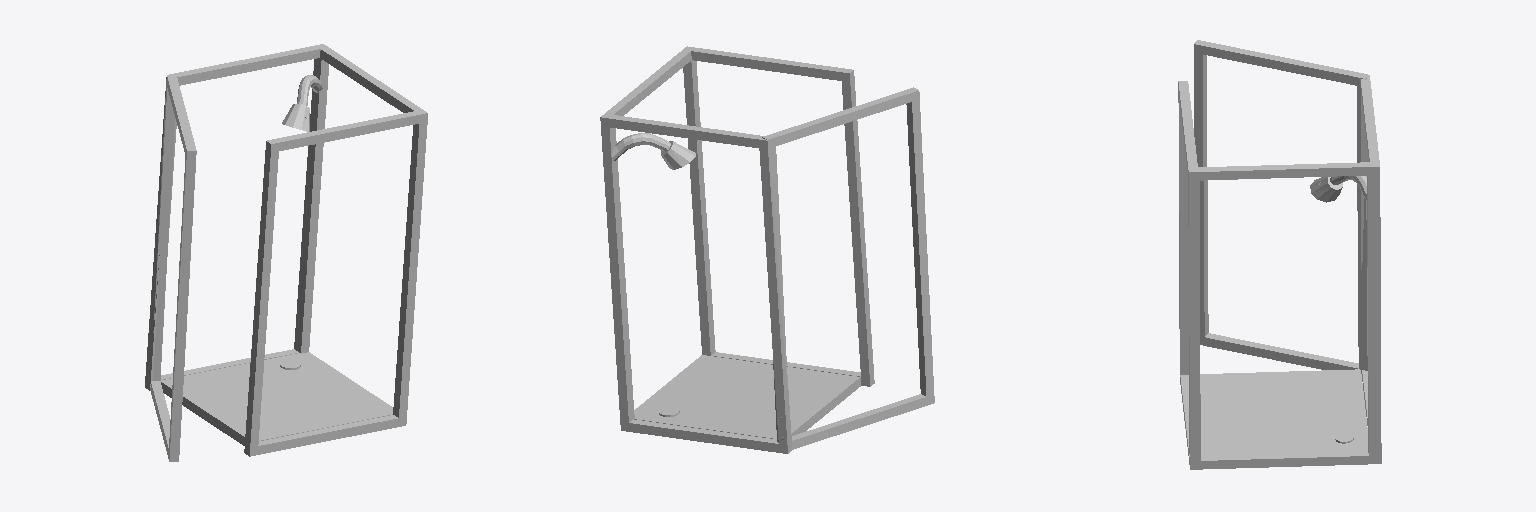
Rendered from Shower.obj.
3 renders of one model, left to right at view 1: azimuth 30°, elevation 25°; view 2: azimuth 150°, elevation 25°; view 3: azimuth 270°, elevation 25°, orthographic.
Parts seen in each view (by area): view 1: group[number redacted]; view 2: group[number redacted]; view 3: group[number redacted].
Part boxes in pixels (bbox=[...]): group[number redacted]: bbox=[145, 44, 427, 461]; group[number redacted]: bbox=[600, 46, 934, 453]; group[number redacted]: bbox=[1178, 40, 1381, 469].
Size of the model in its own units: 1.5 by 1.83 by 1.04.